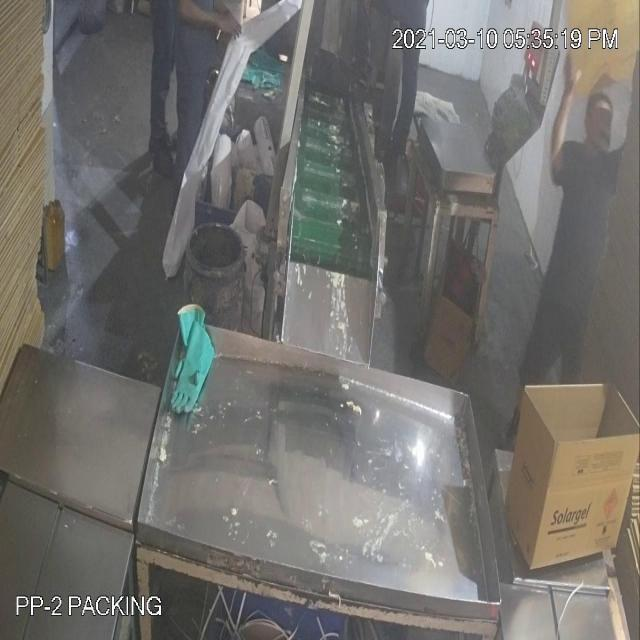No_Gloves: (40, 25, 566, 150)
